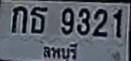1: (113, 8, 122, 38)
2: (92, 9, 108, 37)
3: (77, 8, 90, 35)
9: (61, 8, 74, 35)
A01: (11, 6, 27, 33)
A24: (30, 7, 47, 34)
LRI: (39, 40, 78, 61)
